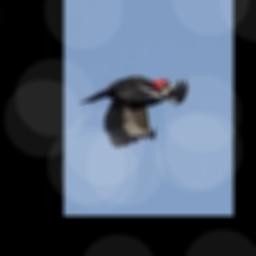Woodpecker: (79, 75, 188, 149)
